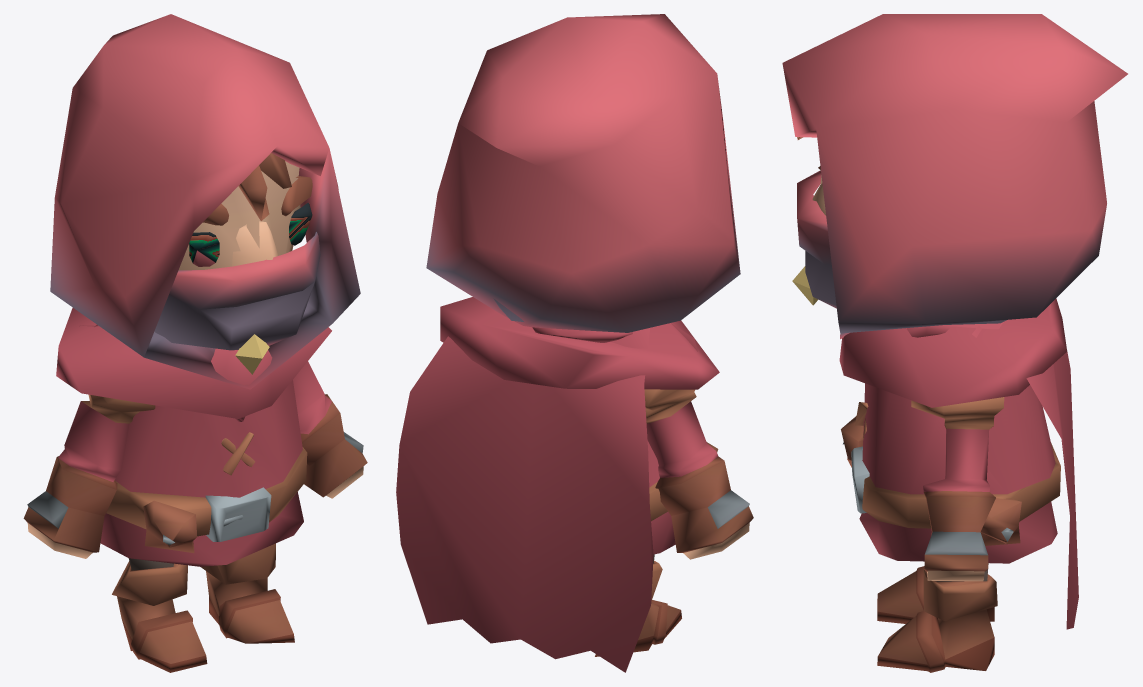
Rendered from hero-ombre.glb.
3 views of the same model, side by side, from view 1: azimuth 30°, elevation 25°; view 2: azimuth 150°, elevation 25°; view 3: azimuth 270°, elevation 25° (orthographic). The views are drawn at different scales.
Parts seen in each view (by area): view 1: hero:ombre; view 2: hero:ombre; view 3: hero:ombre.
Boxes of the visible parts, box(x1,y1,x2,y2) form: hero:ombre: box(23, 14, 367, 672); hero:ombre: box(396, 14, 753, 672); hero:ombre: box(782, 14, 1127, 672).
Size of the model in its own units: 0.7233 by 1.3 by 0.6603.
Materials: 1 (1 with a texture image).
